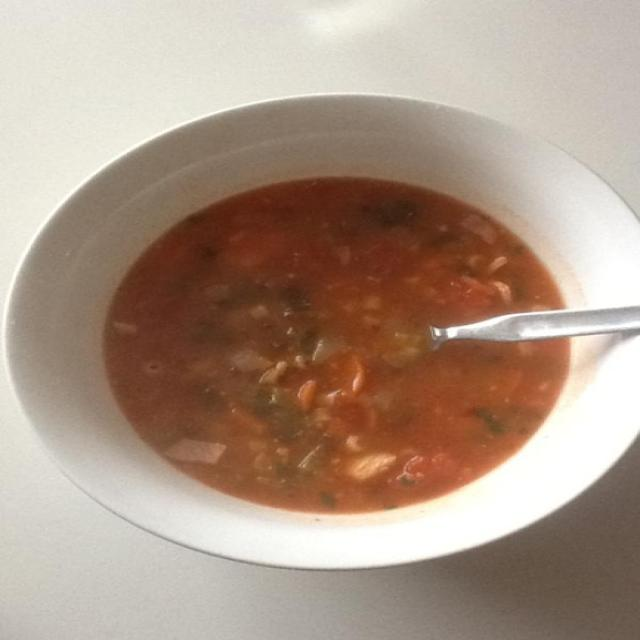汤锅炖物: (20, 74, 636, 576)
